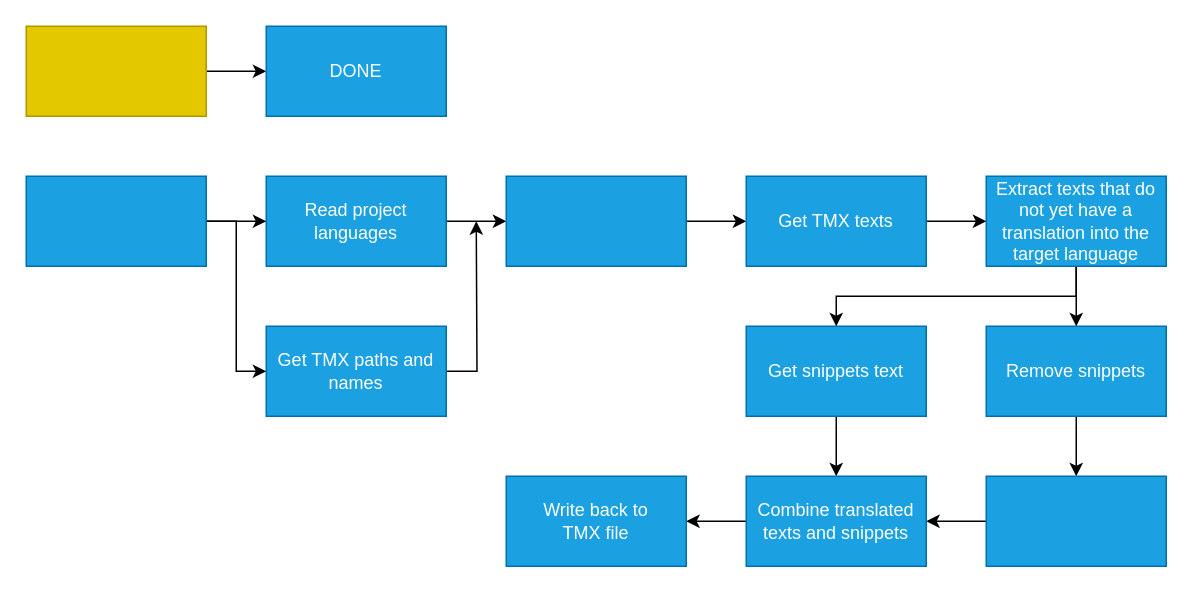
The diagram is 1193 pixels wide and 593 high, and some of its shapes have lost their labels. The box of each missing label's shape, as (x1, y1, x2, y2) in pixels:
Get selected data from GUI: (505, 175, 686, 266)
Read project info: (25, 175, 206, 266)
TODO: (25, 25, 206, 116)
Translate texts: (985, 475, 1166, 566)
